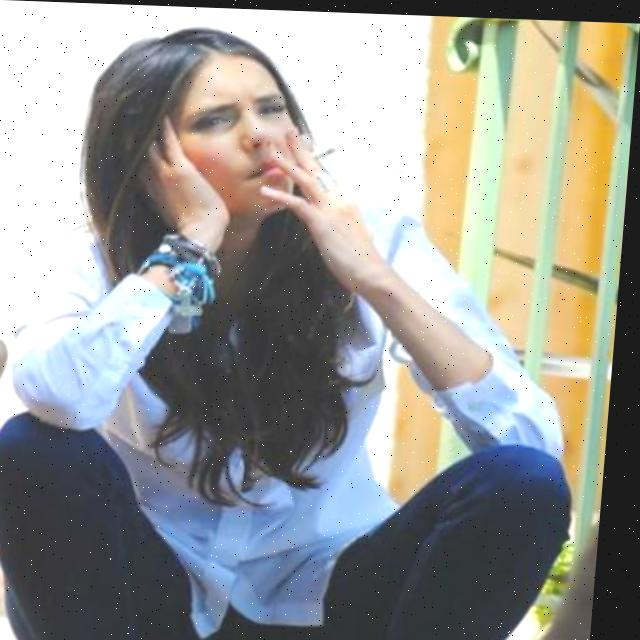cigarette: (309, 140, 341, 161)
